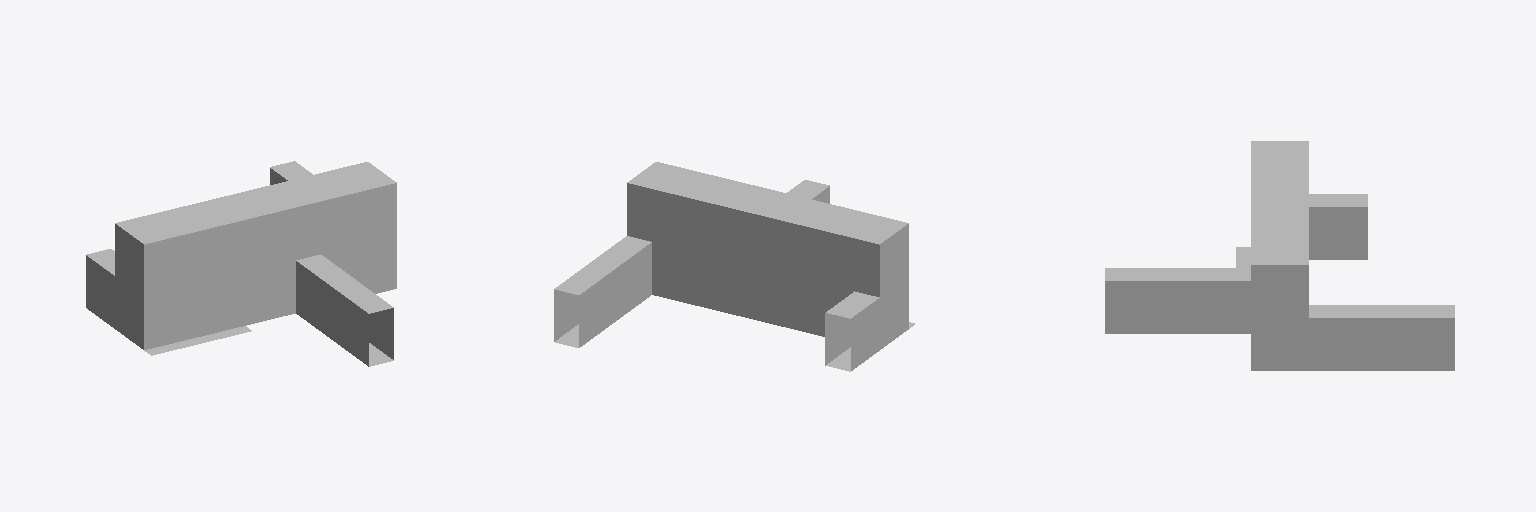
The model's file is hallwayBlue-2.obj.
The picture shows the model from 3 angles: view 1: azimuth 30°, elevation 25°; view 2: azimuth 150°, elevation 25°; view 3: azimuth 270°, elevation 25°; orthographic projection.
Visible parts, largest first — view 1: hallwayBlue-2; view 2: hallwayBlue-2; view 3: hallwayBlue-2.
Boxes of the visible parts, box(x1,y1,x2,y2) form: hallwayBlue-2: box(86, 161, 396, 366); hallwayBlue-2: box(554, 162, 914, 371); hallwayBlue-2: box(1105, 141, 1454, 370).
Size of the model in its own units: 40 by 16 by 48.